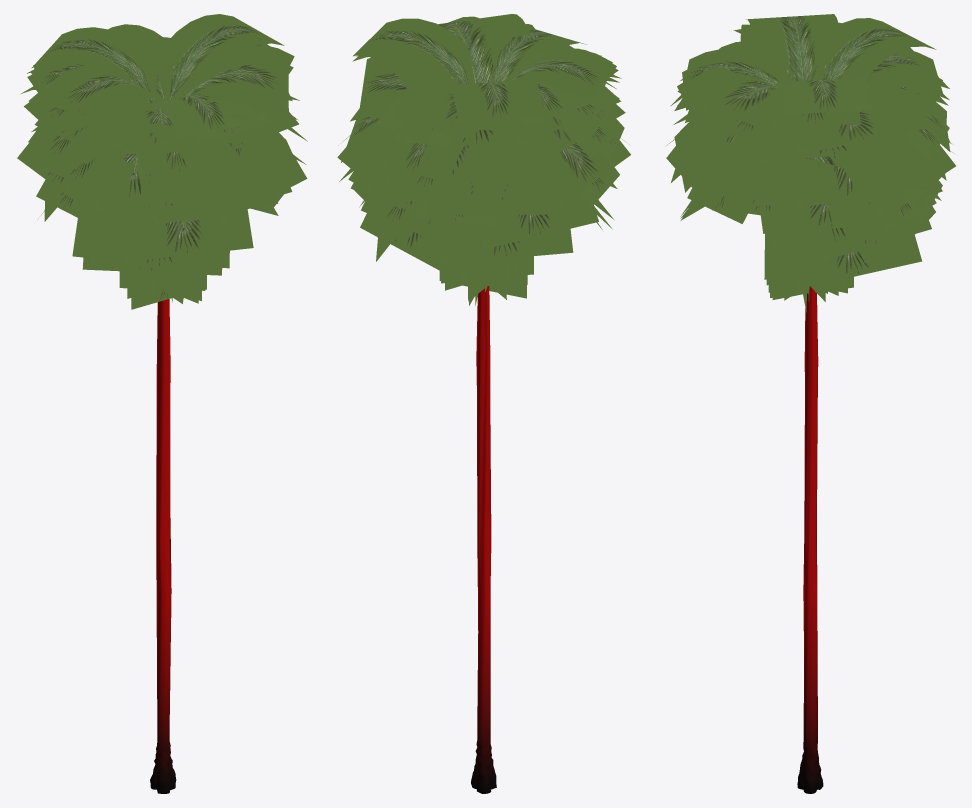
Rendered from Palm_1_11.fbx.
The picture shows the model from 3 angles, left to right: view 1: azimuth 30°, elevation 25°; view 2: azimuth 150°, elevation 25°; view 3: azimuth 270°, elevation 25°; orthographic projection.
Visible parts, largest first — view 1: Palm_1_11; view 2: Palm_1_11; view 3: Palm_1_11.
Part boxes in pixels (x1,y1,x2,y2): Palm_1_11: [17, 14, 307, 793]; Palm_1_11: [337, 14, 630, 793]; Palm_1_11: [666, 14, 955, 793].
Size of the model in its own units: 1756 by 4899 by 1778.
